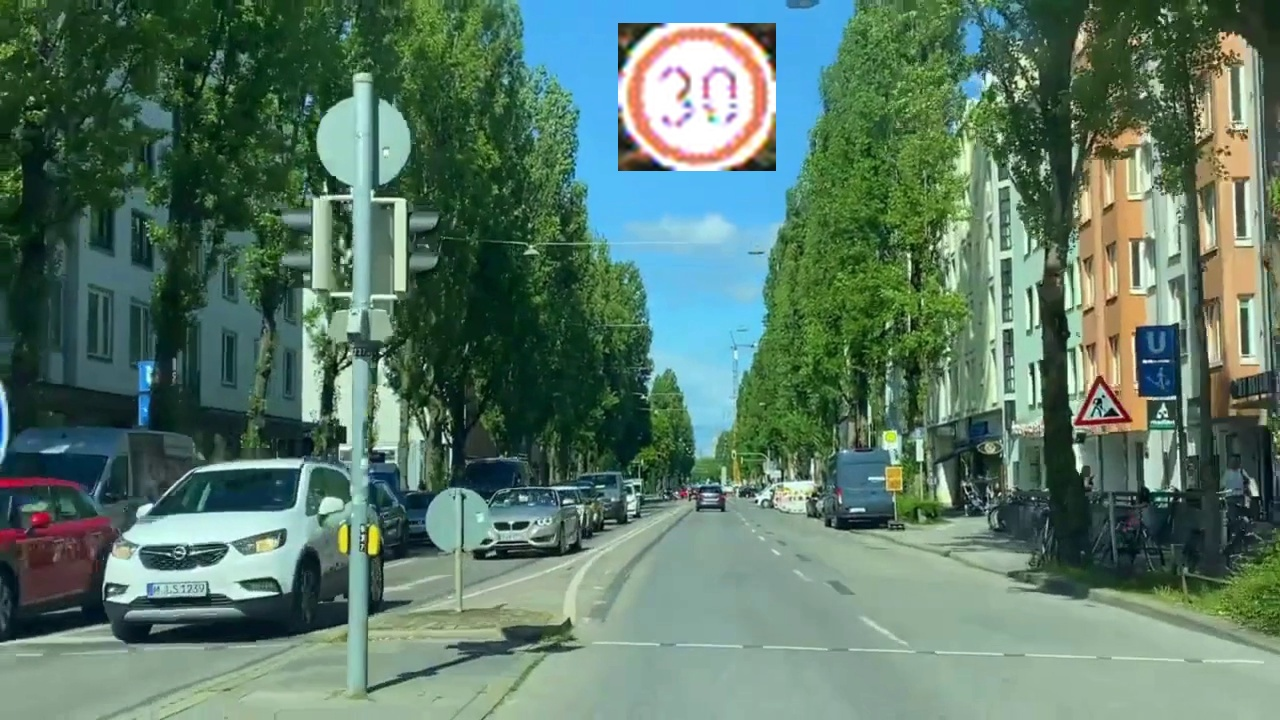Speed 30: (618, 23, 776, 171)
